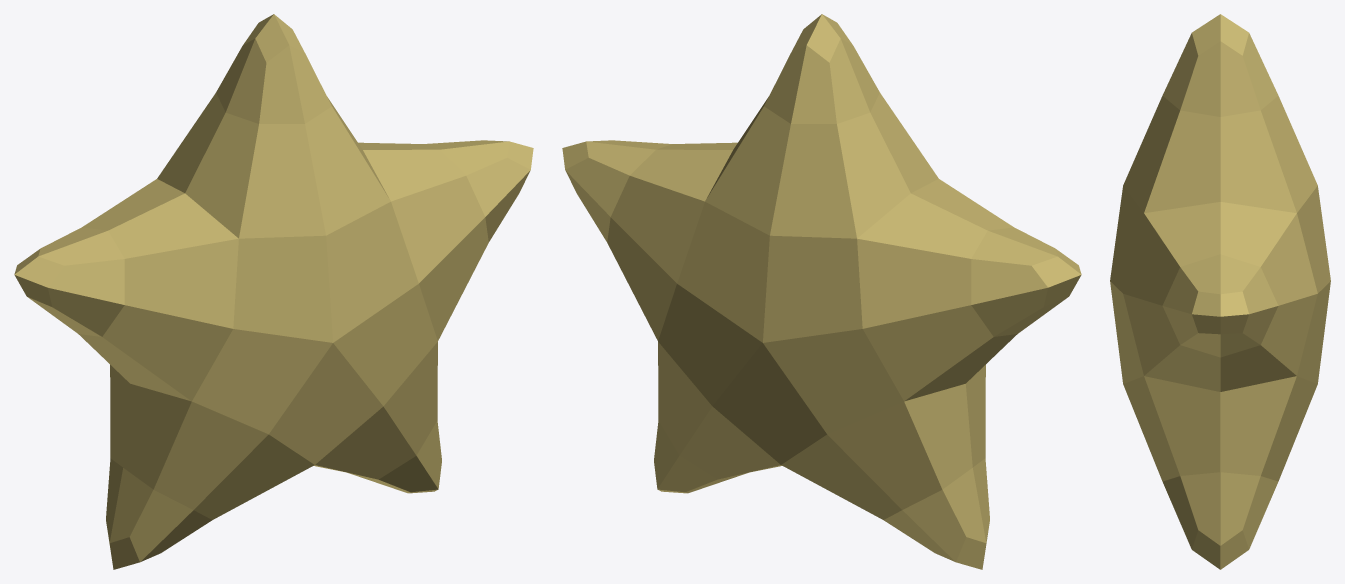
The model's file is SM_Star.fbx.
3 renders of one model, left to right at view 1: azimuth 30°, elevation 25°; view 2: azimuth 150°, elevation 25°; view 3: azimuth 270°, elevation 25°, orthographic. The views are drawn at different scales.
Visible parts, largest first — view 1: SM_Star; view 2: SM_Star; view 3: SM_Star.
Boxes of the visible parts, x1,y1,x2,y2 form: SM_Star: (14,14,533,569); SM_Star: (562,14,1081,569); SM_Star: (1110,14,1330,569).
Bounding box in the file's own units: 93.19 × 88.63 × 36.75.
